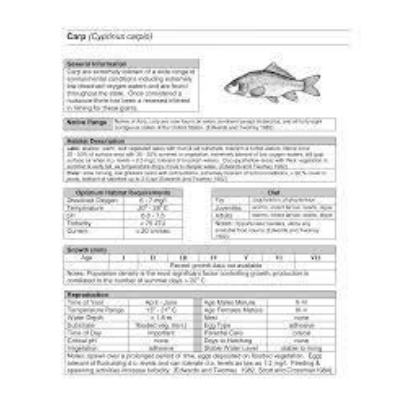ikan-mas: (222, 57, 324, 103)
